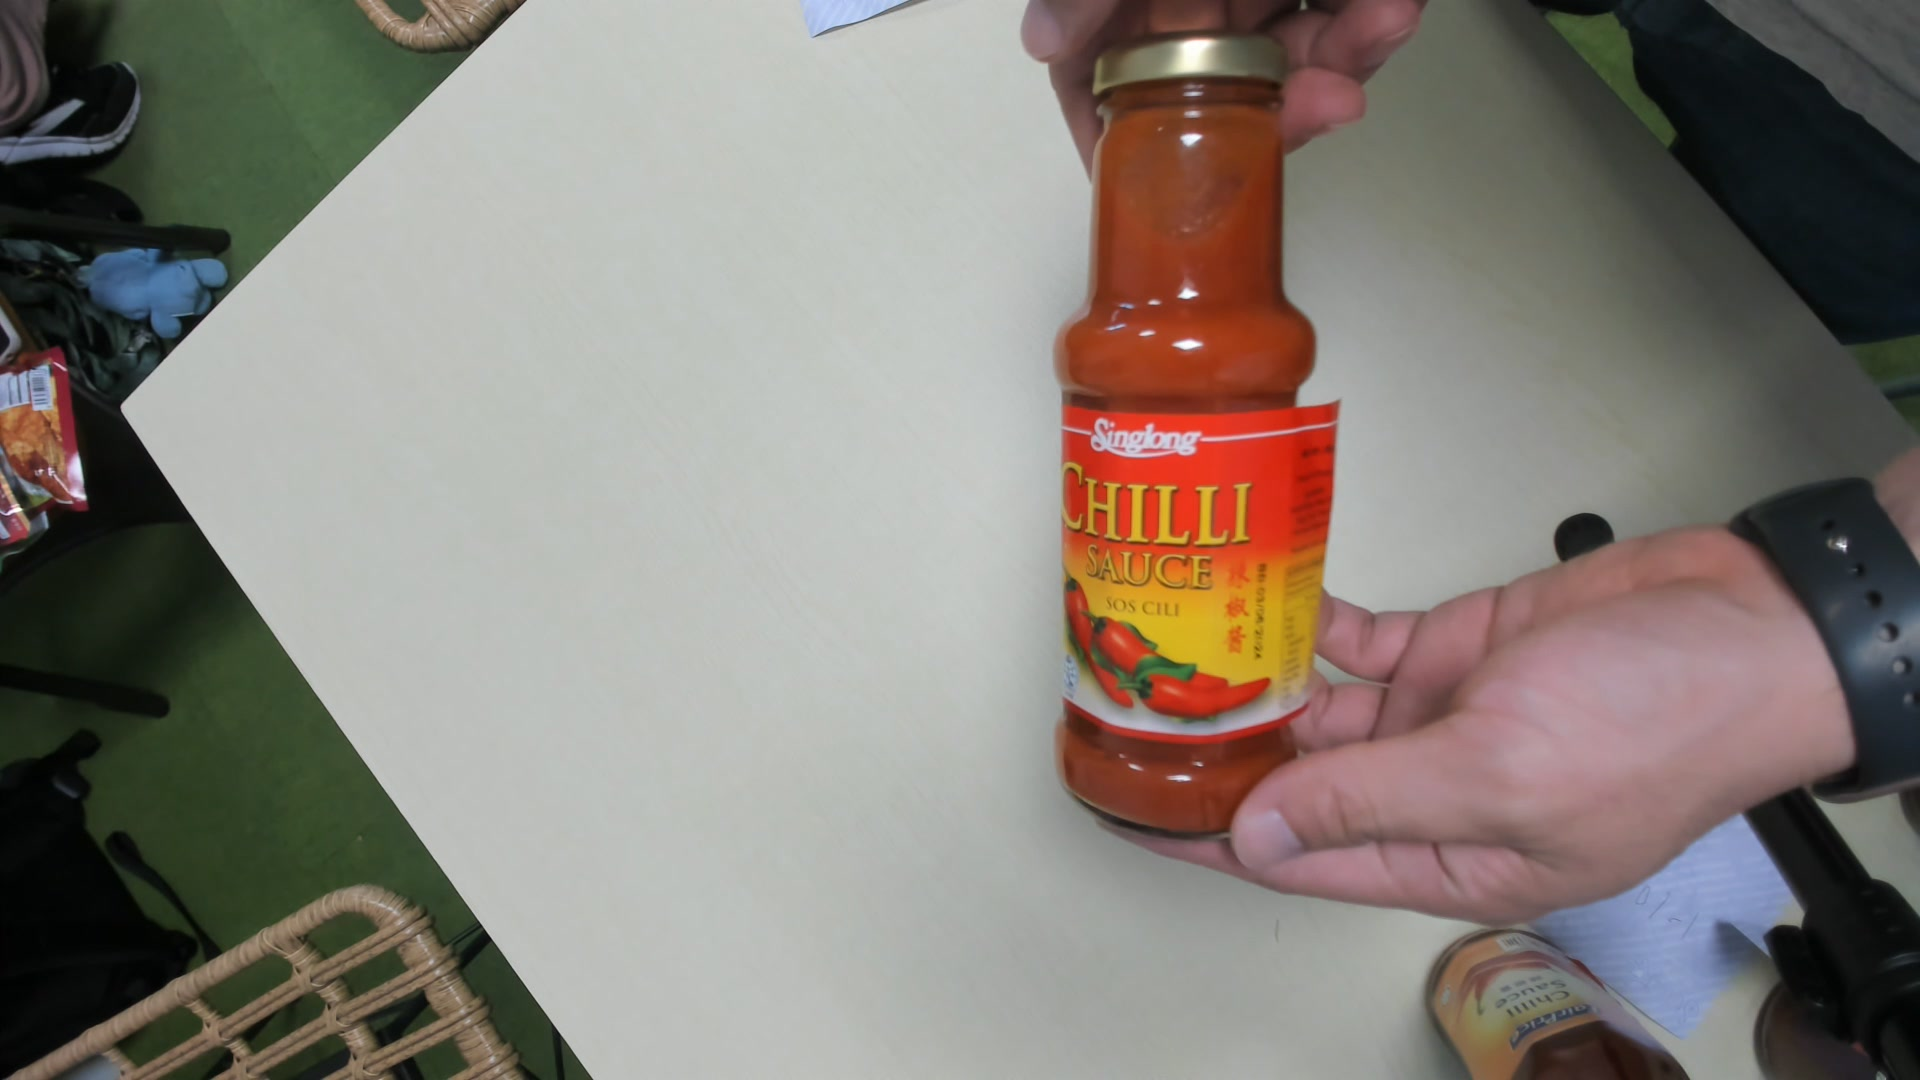KetchupChillSauce_200-299g_Halal_NonHealthy: (1054, 32, 1317, 837)
